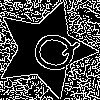Q: (20, 24, 82, 78)
